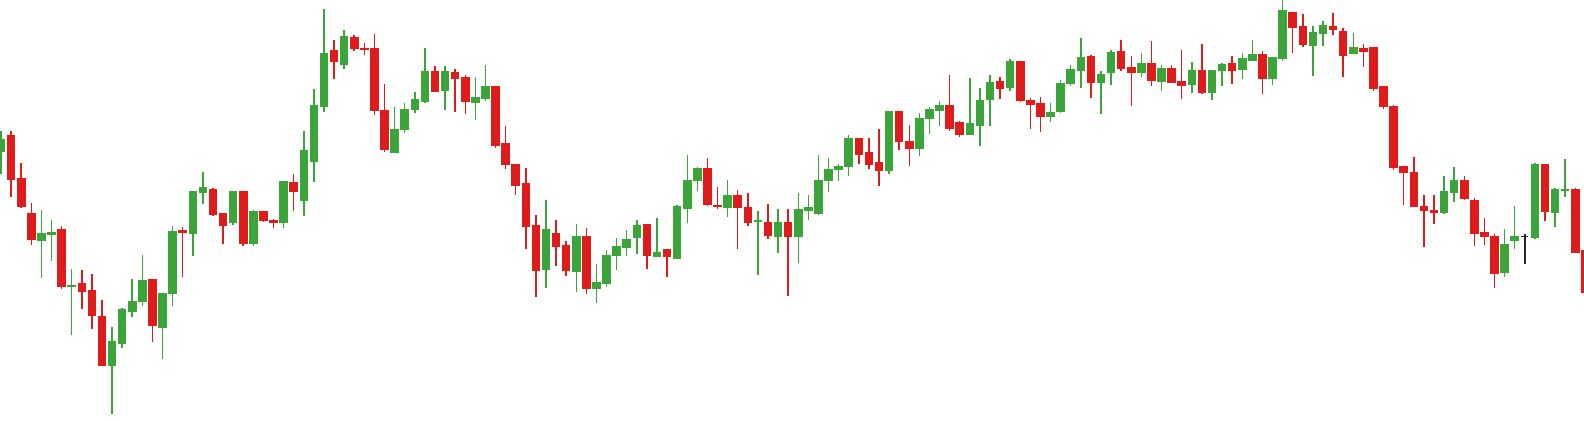buy: (662, 198, 784, 282)
sell: (1448, 161, 1552, 246)
